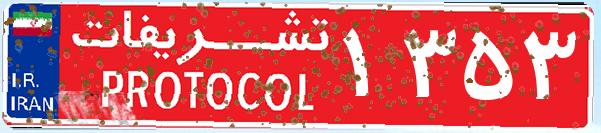1: (340, 20, 400, 115)
3: (400, 20, 460, 115), (520, 20, 580, 115)
5: (460, 20, 520, 115)
تشریفات: (60, 8, 340, 125)
